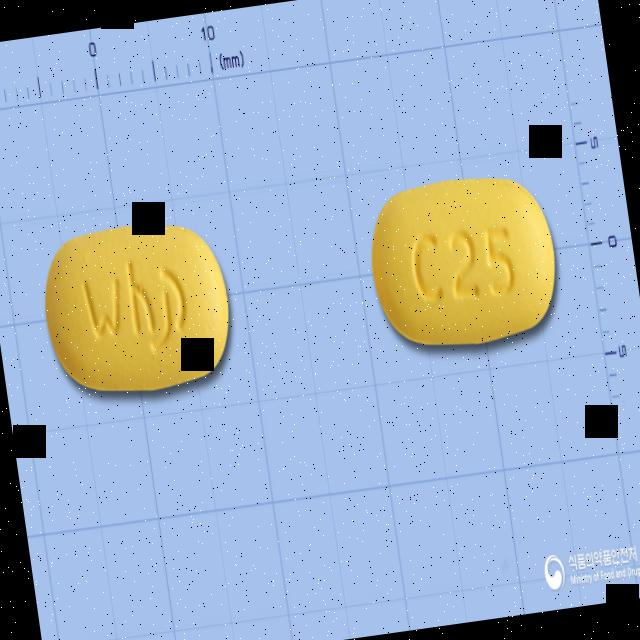Claton: (360, 162, 569, 362), (32, 211, 242, 406)
